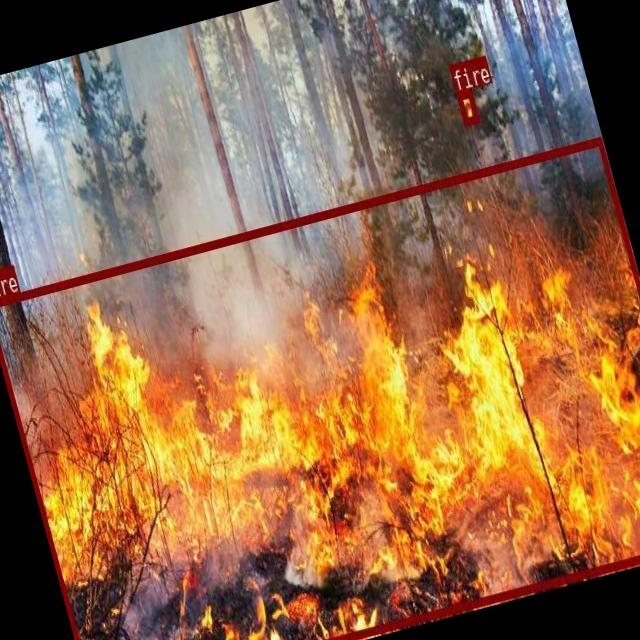fire: (0, 136, 640, 640), (456, 87, 478, 124)
